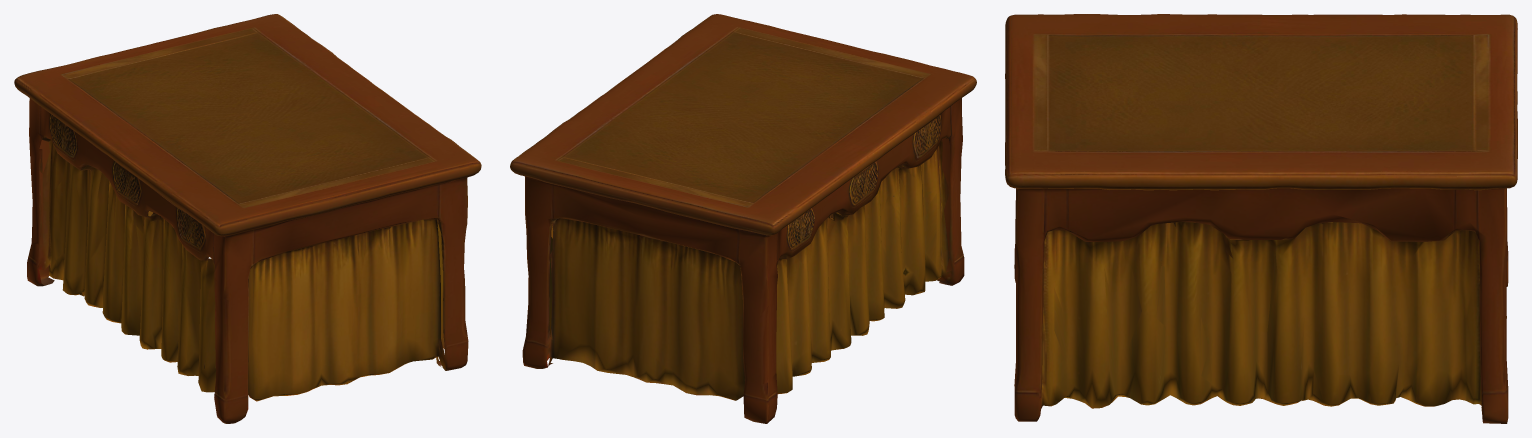
File: Table-reduced-tris.fbx
3 views of the same model, side by side, from view 1: azimuth 30°, elevation 25°; view 2: azimuth 150°, elevation 25°; view 3: azimuth 270°, elevation 25° (orthographic). The views are drawn at different scales.
Parts seen in each view (by area): view 1: Table; view 2: Table; view 3: Table.
Part boxes in pixels (<box>): Table: <box>14,14,481,423</box>; Table: <box>510,14,976,423</box>; Table: <box>1005,14,1517,423</box>.
Bounding box in the file's own units: 60.86 × 45.13 × 81.14.
1 material, 1 textured.
